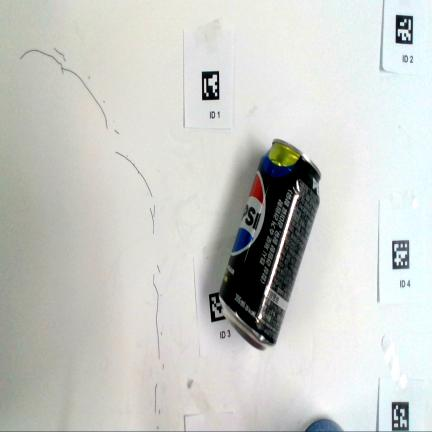can_pepsi_zero: (219, 139, 320, 349)
